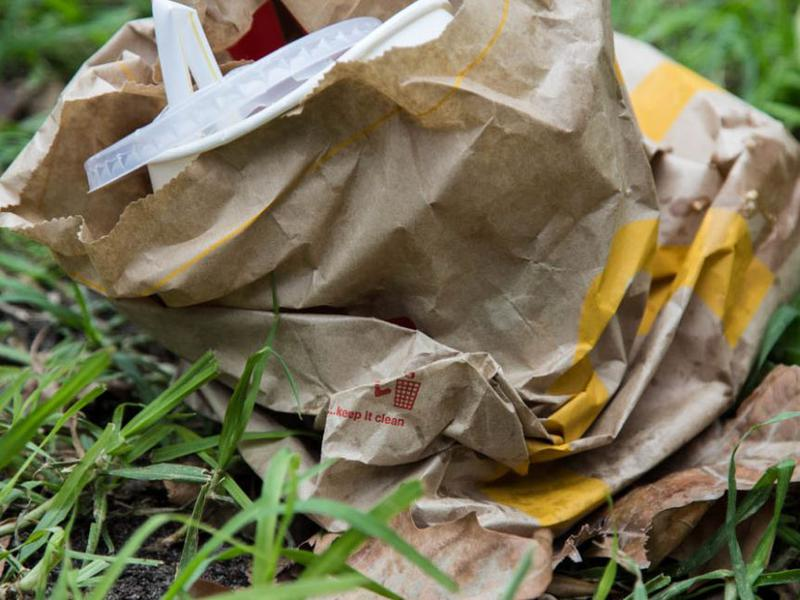paper: (5, 3, 800, 600)
